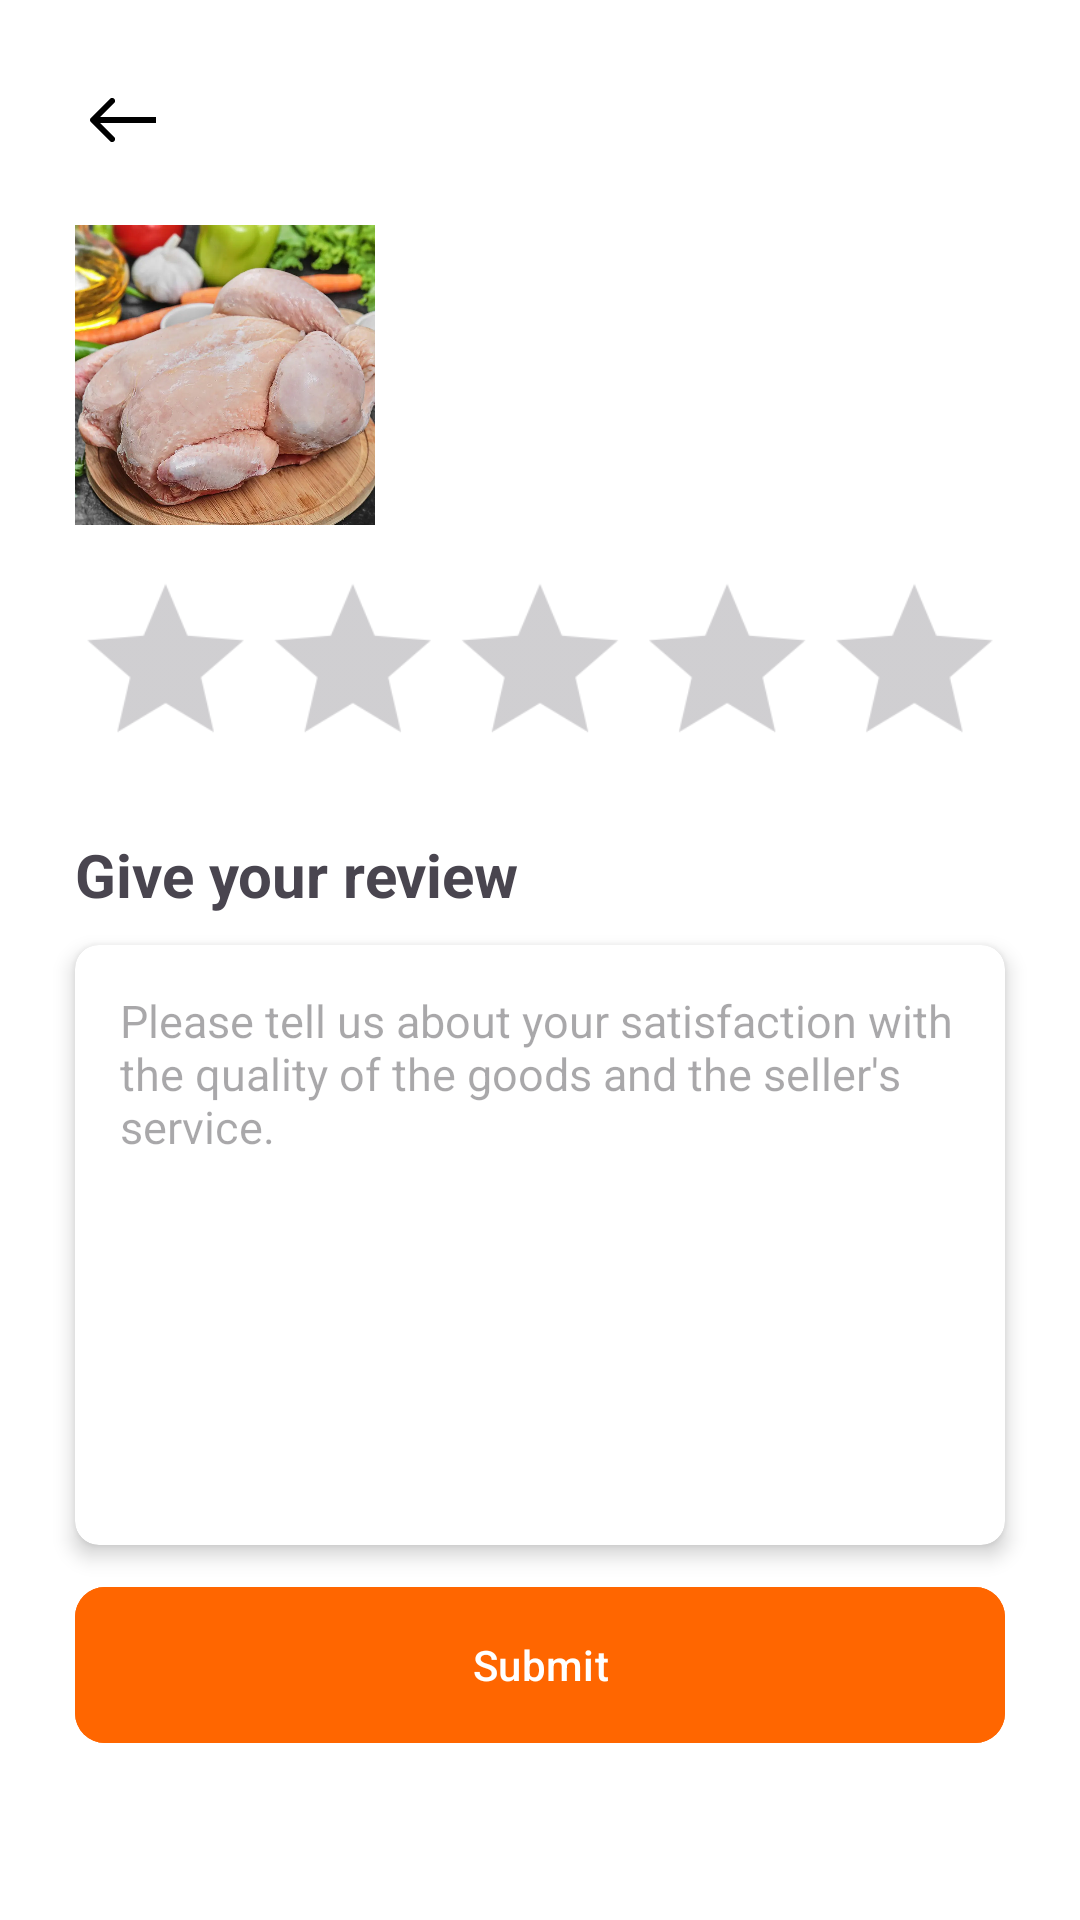

Icon click points for this 1080 × 1920 phone screenshot, format (x=x, y=y):
arrowbackblack: (x=123, y=120)
ayam: (x=225, y=375)
